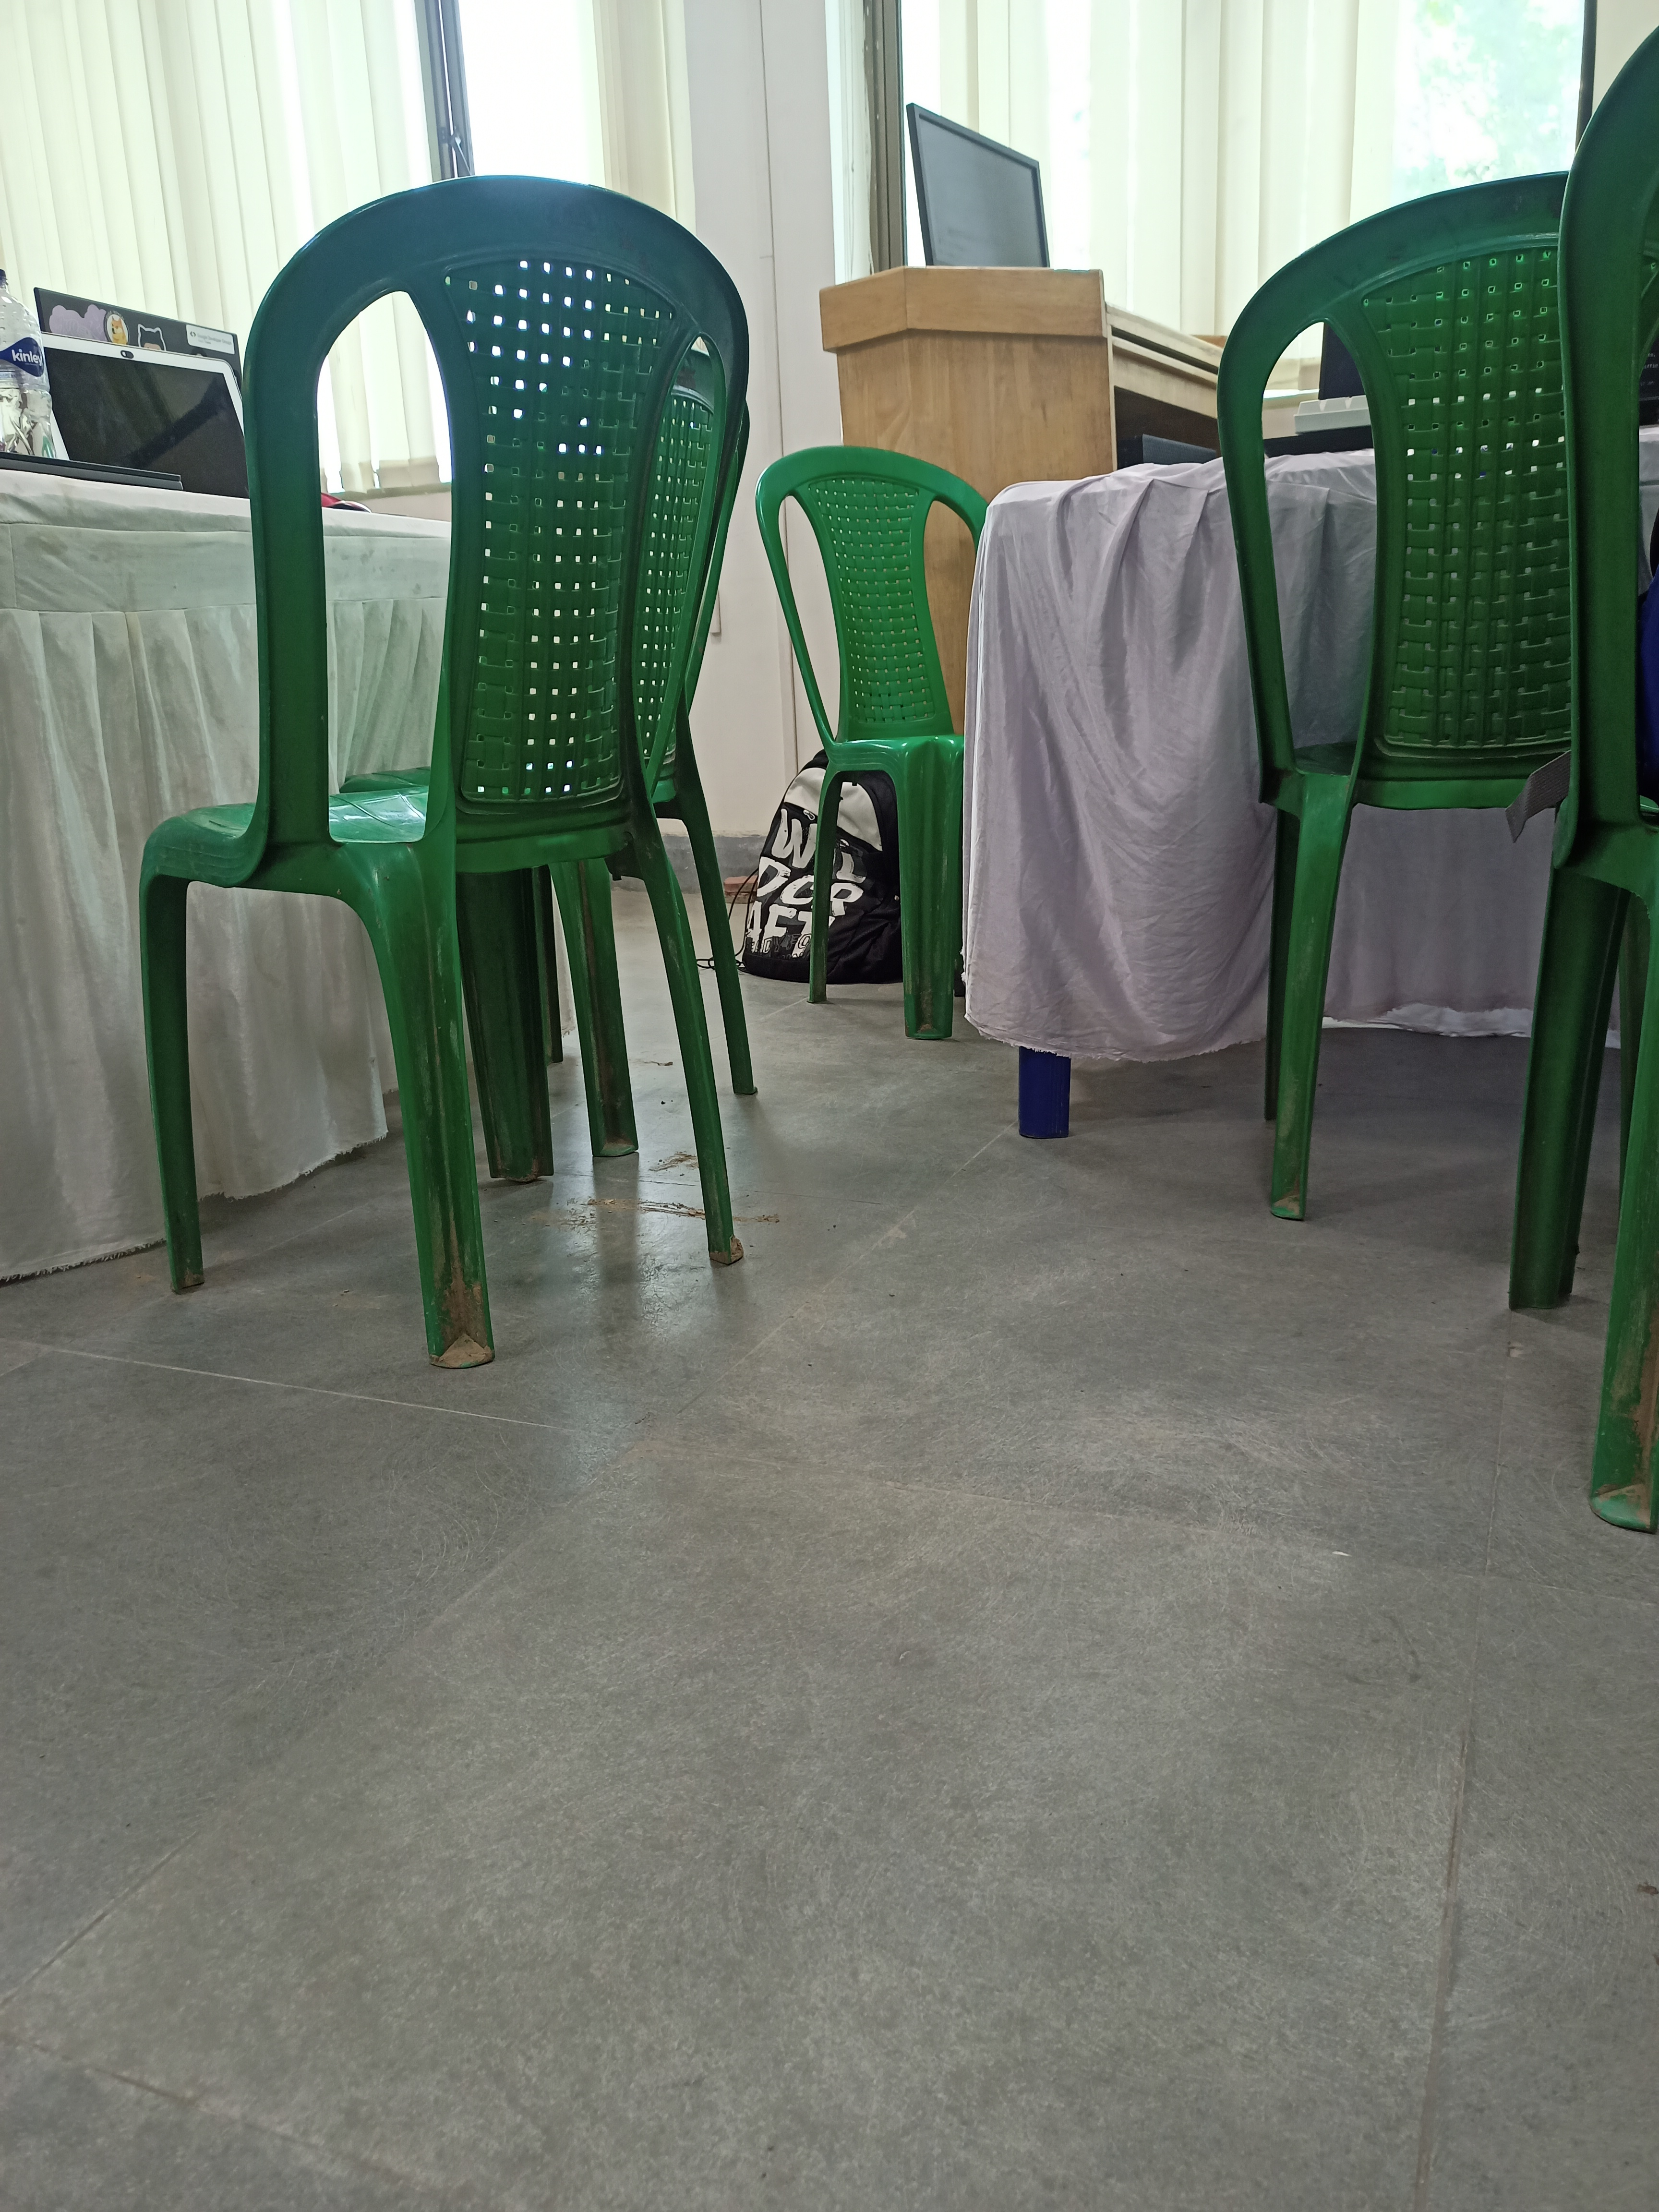Obstacle: (26, 369, 718, 1285), (784, 505, 1659, 1132)
Path: (479, 1200, 1398, 2188)
